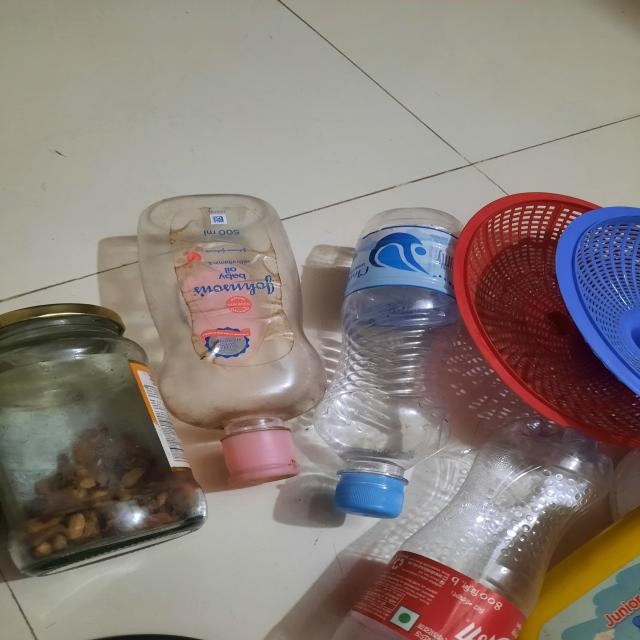Glass: (0, 316, 167, 590)
Plastics: (158, 150, 640, 640)
